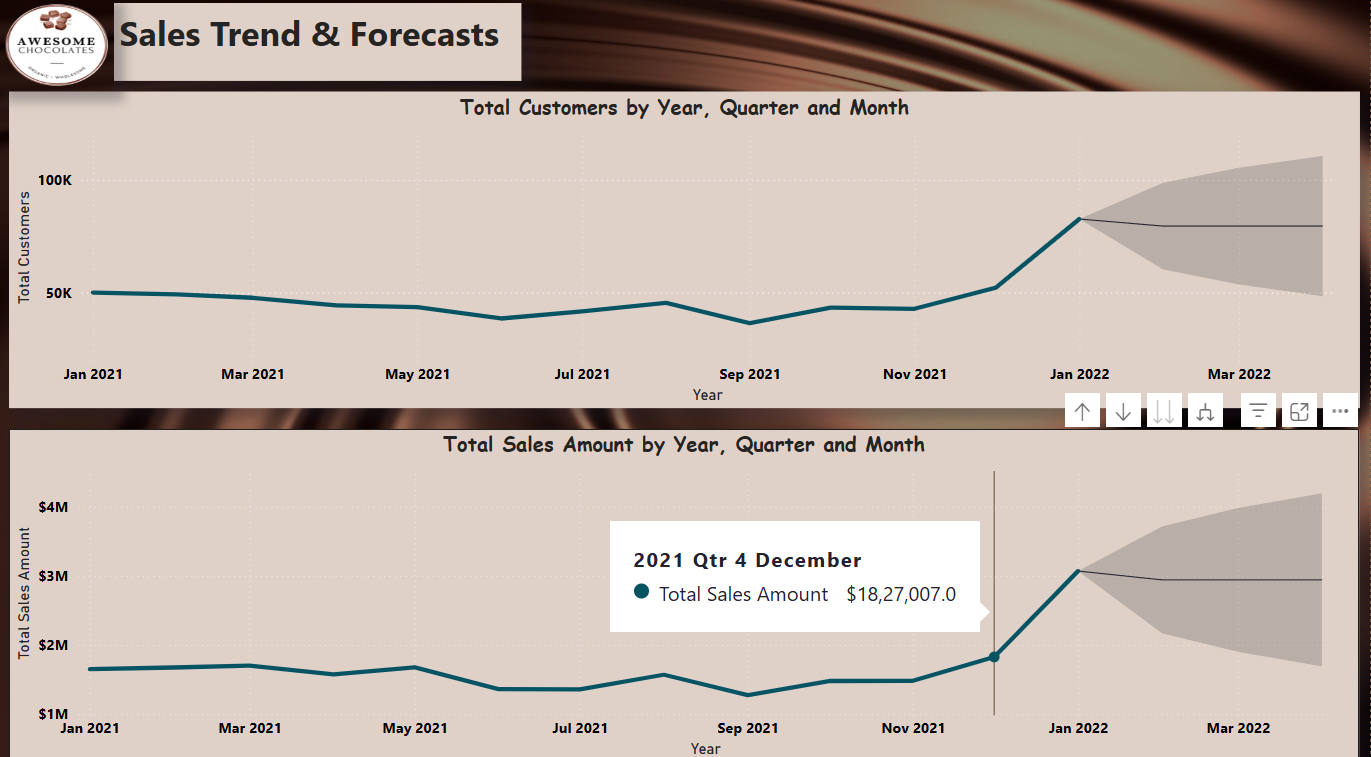

The dashboard page shown, as its layout file describes it:
{"tool":"powerbi","page":{"name":"Page 2","canvas":[1280,720],"ordinal":1},"visuals":[{"type":"textbox","box":[109,10.6,380.1,72.7],"z":0},{"type":"lineChart","fields":{"Category":["sales.Date.Variation.Date Hierarchy.Year","sales.Date.Variation.Date Hierarchy.Quarter","sales.Date.Variation.Date Hierarchy.Month","sales.Date.Variation.Date Hierarchy.Day"],"Y":["sales.Total Customers"]},"box":[10.6,93.9,1259.8,295.3],"z":1000},{"type":"lineChart","fields":{"Category":["sales.Date.Variation.Date Hierarchy.Year","sales.Date.Variation.Date Hierarchy.Quarter","sales.Date.Variation.Date Hierarchy.Month","sales.Date.Variation.Date Hierarchy.Day"],"Y":["sales.Total Amount"]},"box":[11.2,408.5,1259.1,310.6],"z":2000},{"type":"image","box":[3,7.6,106,86.3],"z":3000}]}

Visuals, with their boxes in screenshot pixels (x1, y1, x2, y2), scaled from the page's 1280x720 canvas onto the 1371x757 screenshot:
textbox: l=117, t=11, r=524, b=88
lineChart - sales.Date.Variation.Date Hierarchy.Year x sales.Date.Variation.Date Hierarchy.Quarter: l=11, t=99, r=1361, b=409
lineChart - sales.Date.Variation.Date Hierarchy.Year x sales.Date.Variation.Date Hierarchy.Quarter: l=12, t=429, r=1361, b=756
image: l=3, t=8, r=117, b=99
